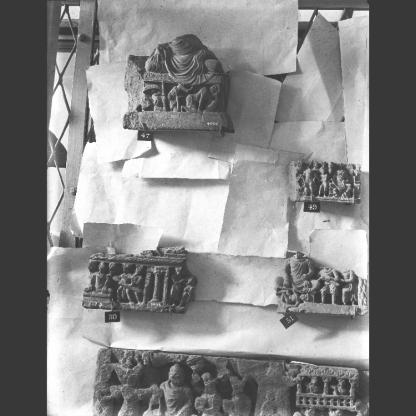buddha-sitting: (283, 246, 321, 296)
